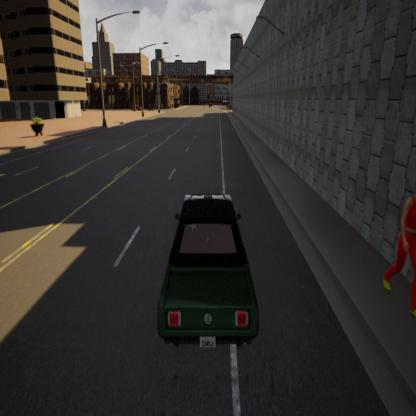Cars: (152, 174, 268, 365)
Pedestrian: (371, 174, 416, 327)
